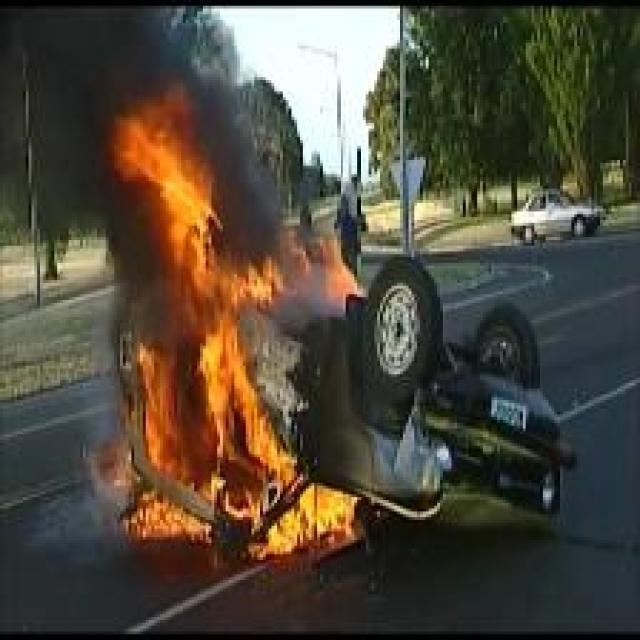Fire: (113, 84, 373, 562)
